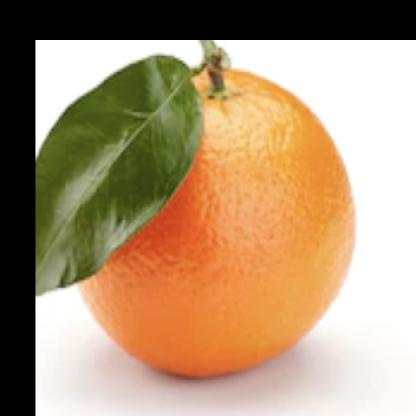fresh: (61, 54, 357, 383)
